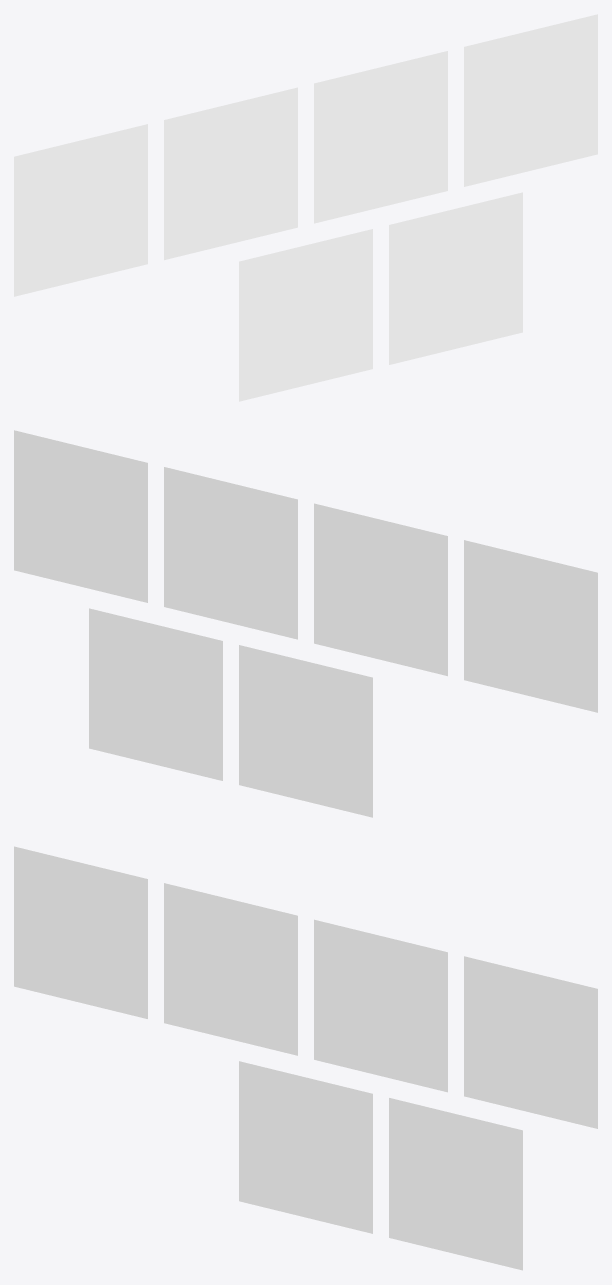
Rendered from svg-material-grid.gltf.
3 views of the same model, one above another, from view 1: azimuth 30°, elevation 25°; view 2: azimuth 150°, elevation 25°; view 3: azimuth 330°, elevation 25° (orthographic).
Visible parts, largest first — view 1: text card, grid card, symbols card, rings card, mask card, filter card; view 2: text card, grid card, symbols card, rings card, mask card, filter card; view 3: symbols card, rings card, text card, filter card, grid card, mask card.
Part boxes in pixels (bbox=[...]): text card: bbox=[239, 229, 372, 401]; grid card: bbox=[14, 124, 147, 296]; symbols card: bbox=[464, 14, 597, 186]; rings card: bbox=[164, 87, 297, 260]; mask card: bbox=[314, 51, 447, 223]; filter card: bbox=[389, 192, 522, 364]; text card: bbox=[239, 645, 372, 817]; grid card: bbox=[464, 540, 597, 712]; symbols card: bbox=[14, 430, 147, 602]; rings card: bbox=[314, 503, 447, 676]; mask card: bbox=[164, 467, 297, 639]; filter card: bbox=[89, 608, 222, 780]; symbols card: bbox=[464, 956, 597, 1128]; rings card: bbox=[164, 883, 297, 1055]; text card: bbox=[239, 1061, 372, 1233]; filter card: bbox=[389, 1098, 522, 1270]; grid card: bbox=[14, 846, 147, 1018]; mask card: bbox=[314, 919, 447, 1092].
Bounding box in the file's own units: 4.36 × 2.14 × 0.
Materials: 6 (6 with a texture image).
